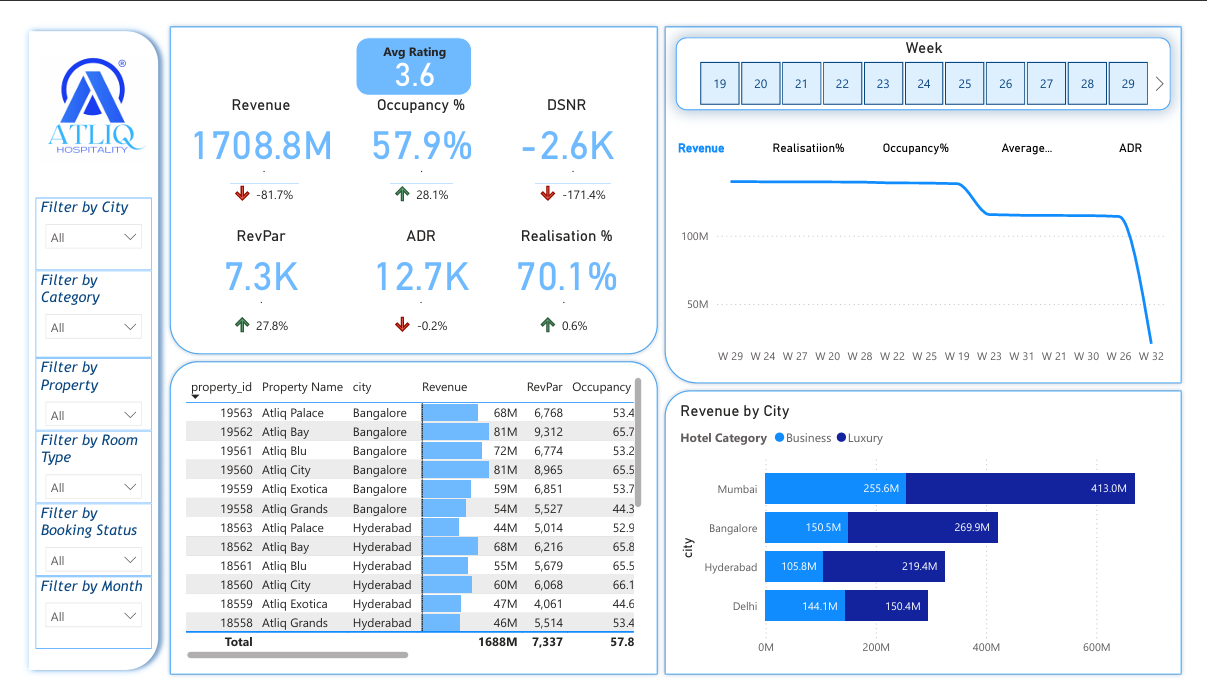

The dashboard page shown, as its layout file describes it:
{"tool":"powerbi","page":{"name":"Key Insights","canvas":[1280,720],"ordinal":0},"visuals":[{"type":"shape","box":[704,0,576,400],"z":0},{"type":"shape","box":[704,400,576,320],"z":1000},{"type":"shape","box":[160,368,544,352],"z":2000},{"type":"shape","box":[0,0,160,720],"z":3000},{"type":"shape","box":[160,0,544,368],"z":4000},{"type":"tableEx","fields":{"Values":["dim_hotels.property_id","dim_hotels.property_name","dim_hotels.city","Measures (2).Revenue","Measures (2).RevPar","Measures (2).Occupancy %","Measures (2).ADR","Measures (2).DSRN","Measures (2).DBRN","Measures (2).DURN","Measures (2).Realisation %","Measures (2).Cancelled %"]},"box":[176,384,512,320],"z":5000},{"type":"slicer","title":"Filter by City","fields":{"Values":["dim_hotels.city"]},"box":[16,192,128,80],"z":6000},{"type":"slicer","title":"Filter by Room Type","fields":{"Values":["dim_rooms.room_class"]},"box":[16,448,128,80],"z":7000},{"type":"slicer","title":"Week","fields":{"Values":["dim_date.Week No."]},"box":[720,16,544,80],"z":8000},{"type":"tableEx","fields":{"Values":["Measures (2).Revenue WoW Change %"]},"box":[224,144,96,64],"z":9000},{"type":"card","title":"Revenue","fields":{"Values":["Measures (2).Revenue"]},"box":[176,80,176,80],"z":10000},{"type":"slicer","title":"Filter by Property","fields":{"Values":["dim_hotels.property_name"]},"box":[16,368,128,80],"z":11000},{"type":"card","title":"Avg Rating","fields":{"Values":["Measures (2).Average Rating"]},"box":[368,16,128,64],"z":12000},{"type":"tableEx","fields":{"Values":["Measures (2).RevPar WoW Change %"]},"box":[224,288,96,64],"z":13000},{"type":"card","title":"RevPar","fields":{"Values":["Measures (2).RevPar"]},"box":[176,224,176,80],"z":14000},{"type":"tableEx","fields":{"Values":["Measures (2).ADR WoW Change %"]},"box":[400,288,96,64],"z":15000},{"type":"card","title":"ADR","fields":{"Values":["Measures (2).ADR"]},"box":[352,224,176,80],"z":16000},{"type":"tableEx","fields":{"Values":["Measures (2).Occupancy WoW Change %"]},"box":[400,144,96,64],"z":17000},{"type":"tableEx","fields":{"Values":["Measures (2).Realisation WoW Change %"]},"box":[560,288,96,64],"z":18000},{"type":"card","title":"Realisation %","fields":{"Values":["Measures (2).Realisation %"]},"box":[512,224,176,80],"z":19000},{"type":"tableEx","fields":{"Values":["Measures (2).DSRN WoW Change %"]},"box":[560,144,96,64],"z":20000},{"type":"card","title":"DSNR","fields":{"Values":["Measures (2).DSRN"]},"box":[512,80,176,80],"z":21000},{"type":"card","title":"Occupancy %","fields":{"Values":["Measures (2).Occupancy %"]},"box":[352,80,176,80],"z":22000},{"type":"slicer","title":"Filter by Booking Status","fields":{"Values":["fact_bookings.booking_status"]},"box":[16,528,128,80],"z":23000},{"type":"slicer","title":"Filter by Month","fields":{"Values":["dim_date.mmm yy"]},"box":[16,608,128,80],"z":24000},{"type":"slicer","title":"Filter by Category","fields":{"Values":["dim_hotels.category"]},"box":[16,272,128,96],"z":25000},{"type":"barChart","title":"Revenue by City","fields":{"Y":["Measures (2).Revenue"],"Category":["dim_hotels.city"],"Series":["dim_hotels.category"]},"box":[720,416,544,288],"z":26000},{"type":"lineChart","fields":{"Category":["dim_date.week no"],"Y":["Measures (2).Line_chart_measures"]},"box":[720,160,544,224],"z":28000},{"type":"advancedSlicerVisual","fields":{"Values":["Line_Selection.Type"]},"box":[688,112,592,48],"z":29000},{"type":"image","box":[16,32,128,128],"z":29001}]}

Visuals, with their boxes in screenshot pixels (x1, y1, x2, y2), scaled from the page's 1280x720 canvas onto the 1207x695 screenshot:
shape: x1=664, y1=0, x2=1206, y2=386
shape: x1=664, y1=386, x2=1206, y2=694
shape: x1=151, y1=355, x2=664, y2=694
shape: x1=0, y1=0, x2=151, y2=694
shape: x1=151, y1=0, x2=664, y2=355
tableEx - dim_hotels.property_id x dim_hotels.property_name: x1=166, y1=371, x2=649, y2=680
"Filter by City" slicer: x1=15, y1=185, x2=136, y2=263
"Filter by Room Type" slicer: x1=15, y1=432, x2=136, y2=510
"Week" slicer: x1=679, y1=15, x2=1192, y2=93
tableEx - Measures (2).Revenue WoW Change %: x1=211, y1=139, x2=302, y2=201
"Revenue" card: x1=166, y1=77, x2=332, y2=154
"Filter by Property" slicer: x1=15, y1=355, x2=136, y2=432
"Avg Rating" card: x1=347, y1=15, x2=468, y2=77
tableEx - Measures (2).RevPar WoW Change %: x1=211, y1=278, x2=302, y2=340
"RevPar" card: x1=166, y1=216, x2=332, y2=293
tableEx - Measures (2).ADR WoW Change %: x1=377, y1=278, x2=468, y2=340
"ADR" card: x1=332, y1=216, x2=498, y2=293
tableEx - Measures (2).Occupancy WoW Change %: x1=377, y1=139, x2=468, y2=201
tableEx - Measures (2).Realisation WoW Change %: x1=528, y1=278, x2=619, y2=340
"Realisation %" card: x1=483, y1=216, x2=649, y2=293
tableEx - Measures (2).DSRN WoW Change %: x1=528, y1=139, x2=619, y2=201
"DSNR" card: x1=483, y1=77, x2=649, y2=154
"Occupancy %" card: x1=332, y1=77, x2=498, y2=154
"Filter by Booking Status" slicer: x1=15, y1=510, x2=136, y2=587
"Filter by Month" slicer: x1=15, y1=587, x2=136, y2=664
"Filter by Category" slicer: x1=15, y1=263, x2=136, y2=355
"Revenue by City" barChart: x1=679, y1=402, x2=1192, y2=680
lineChart - dim_date.week no x Measures (2).Line_chart_measures: x1=679, y1=154, x2=1192, y2=371
advancedSlicerVisual - Line_Selection.Type: x1=649, y1=108, x2=1206, y2=154
image: x1=15, y1=31, x2=136, y2=154
